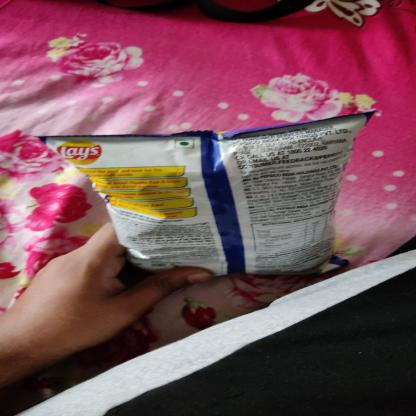indian_magic_masala: (48, 117, 365, 294)
